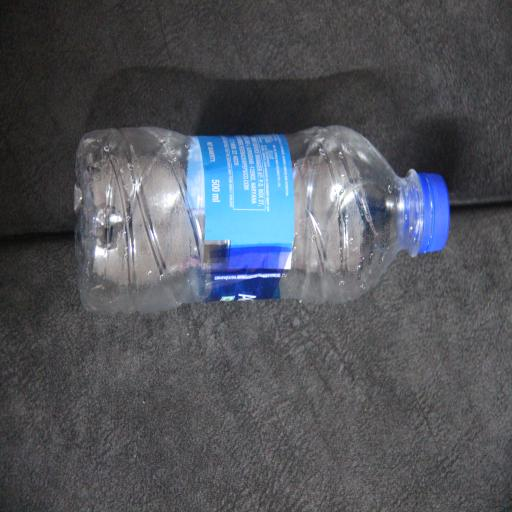Aquafina: (71, 75, 226, 512)
